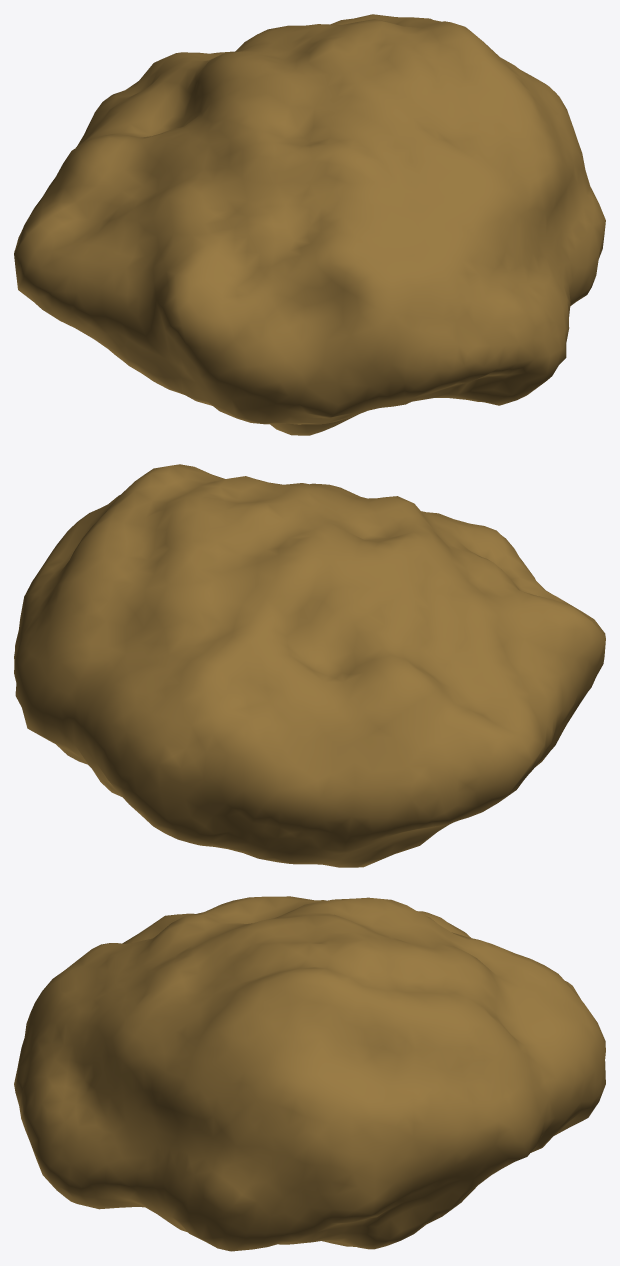
File: little_shooting_star_1.fbx
The picture shows the model from 3 angles, top to bottom: view 1: azimuth 30°, elevation 25°; view 2: azimuth 150°, elevation 25°; view 3: azimuth 270°, elevation 25°; orthographic projection. The views are drawn at different scales.
Visible parts, largest first — view 1: Sphere; view 2: Sphere; view 3: Sphere.
Part boxes in pixels (<box>): Sphere: <box>14,14,605,435</box>; Sphere: <box>14,464,605,867</box>; Sphere: <box>14,896,605,1251</box>.
Bounding box in the file's own units: 740 × 459 × 761.
